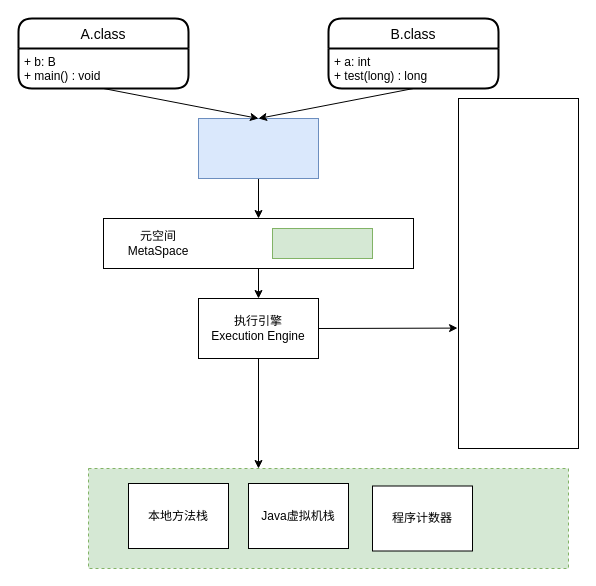
This 596x586 diagram has some shape labels left out. The shapes that lost their labels are listed below. From the top down, each one's centre as x and y in pixels, then its label:
At (258,148): "类加载器".
At (322,243): "方法区".
At (518,273): "堆Heap".
